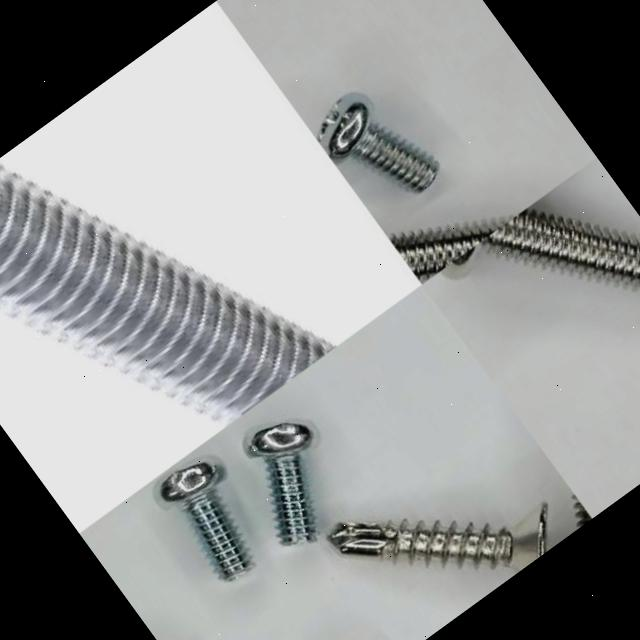Screw: (0, 157, 340, 426), (327, 501, 547, 572), (442, 208, 640, 286), (318, 91, 440, 192), (159, 460, 253, 579), (247, 420, 317, 544)
